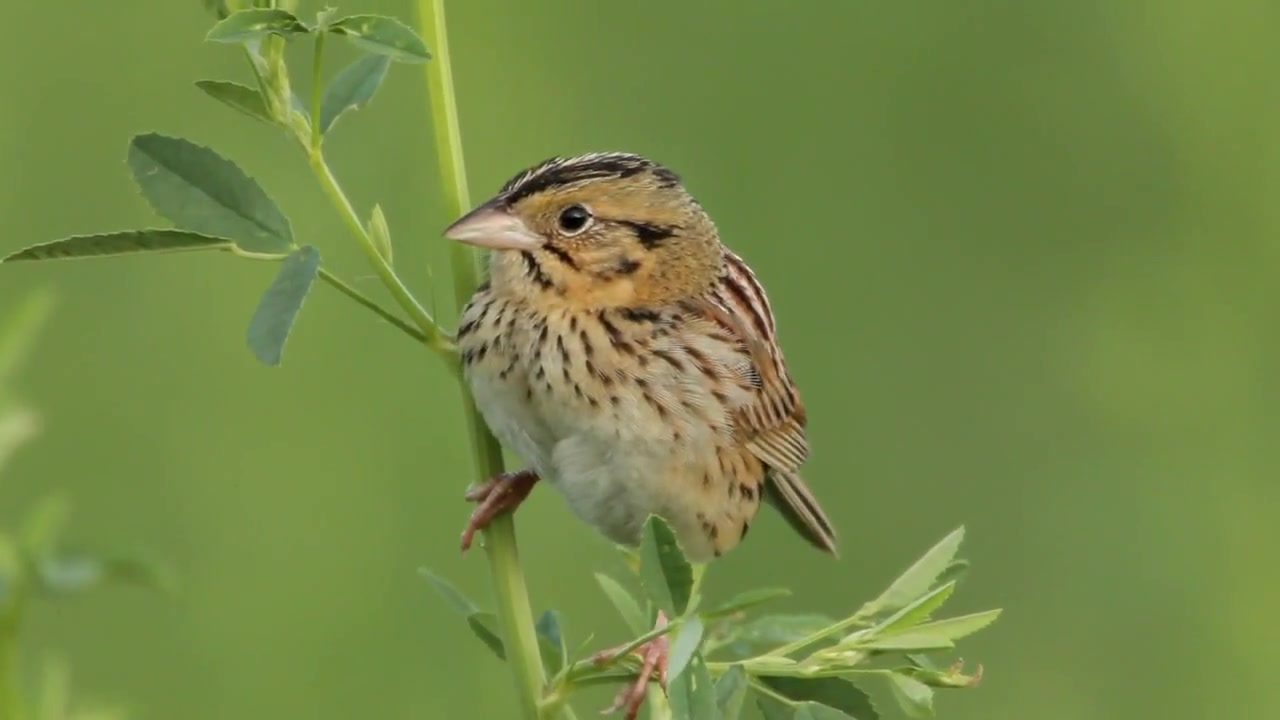bird: (440, 152, 841, 719)
